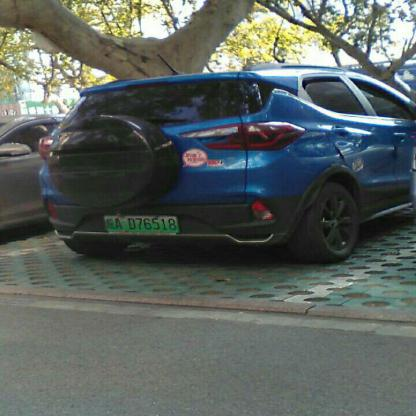lp: (104, 215, 179, 232)
